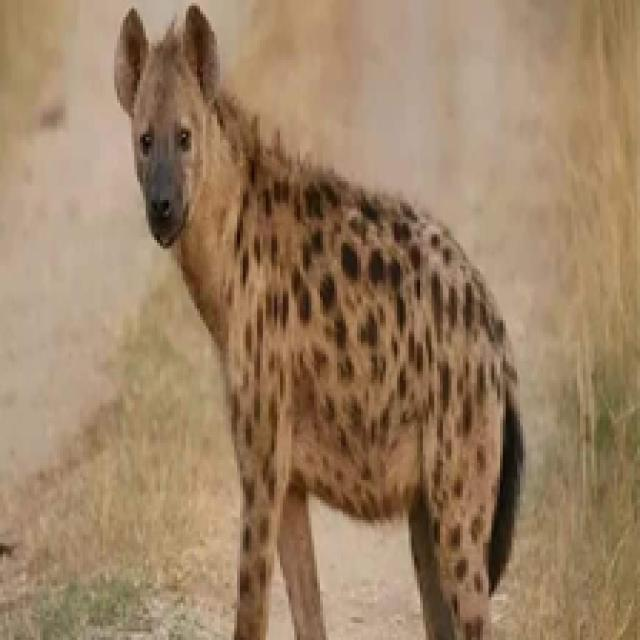hyena: (101, 13, 538, 617)
